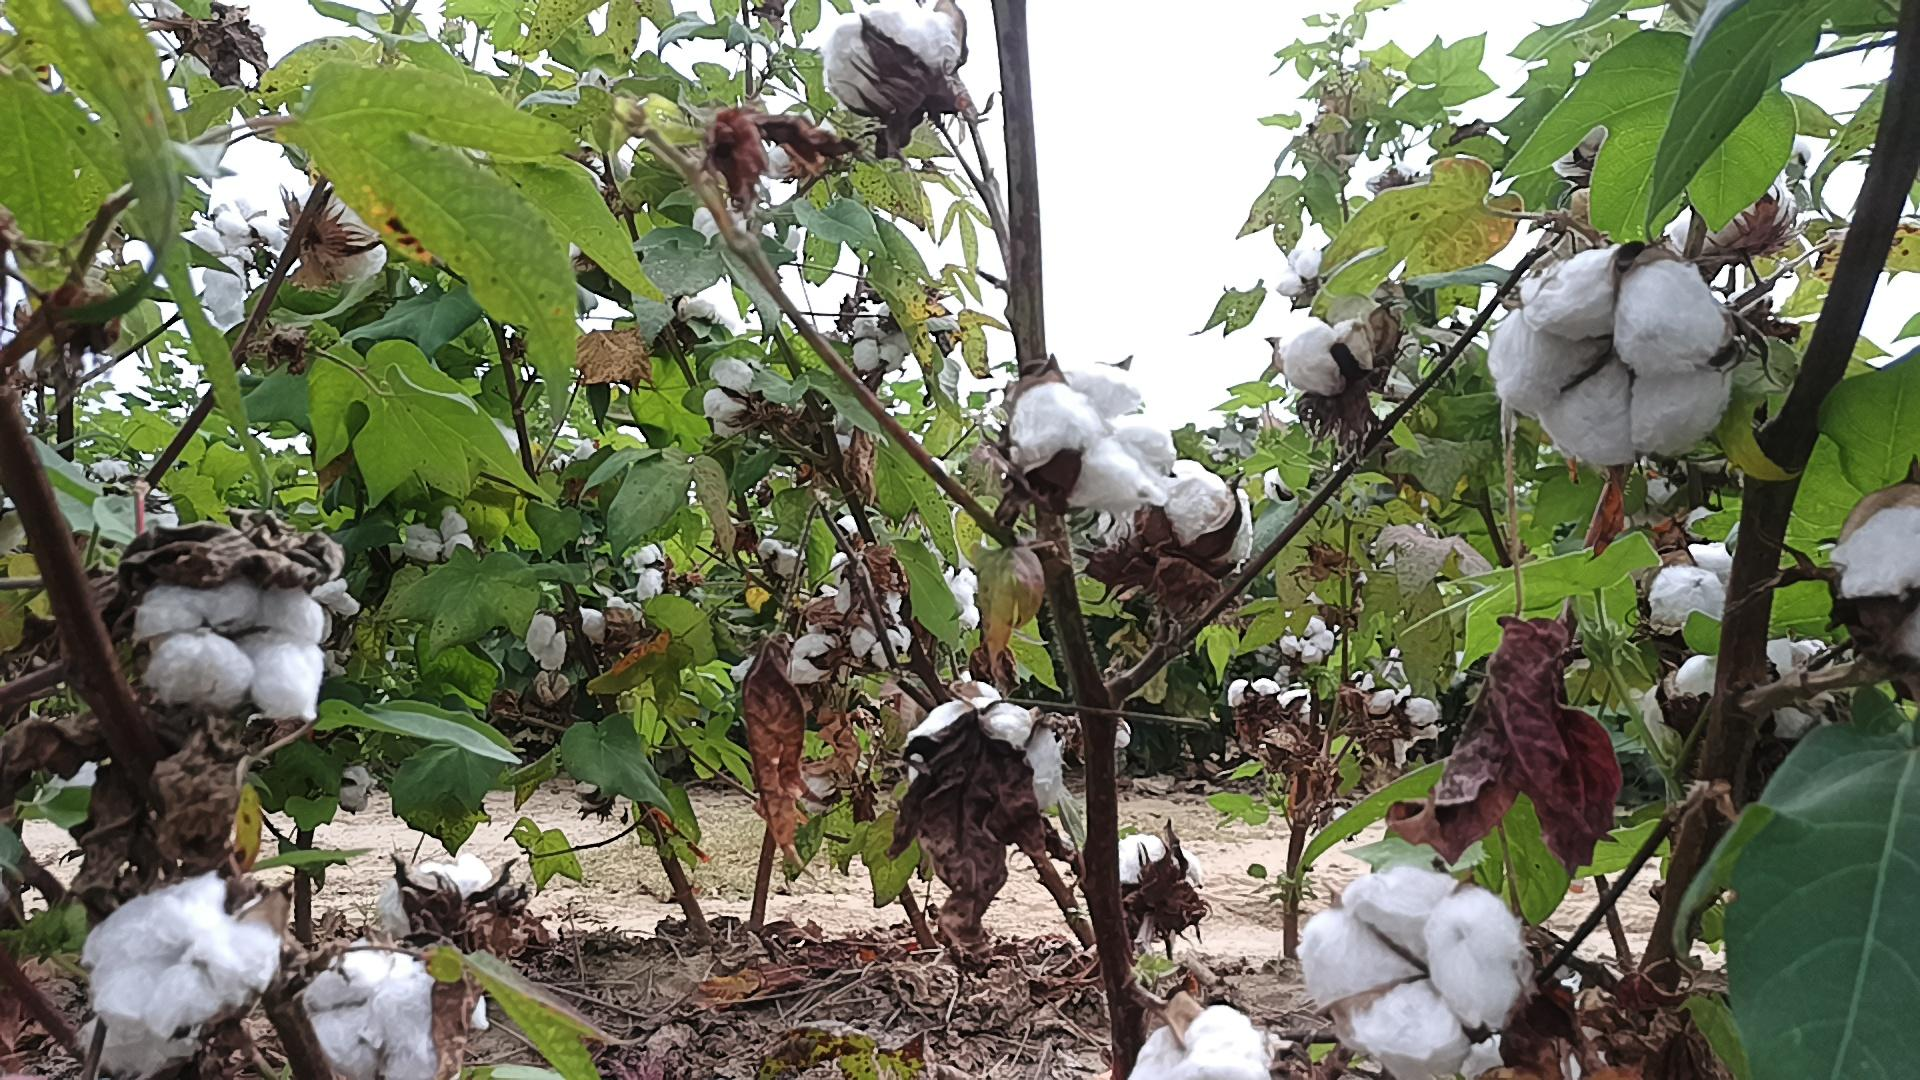cotton_ready: (1490, 245, 1735, 469), (1300, 865, 1528, 1080), (80, 873, 284, 1080), (132, 575, 322, 725), (1013, 368, 1172, 509), (906, 698, 1063, 823), (302, 948, 440, 1080), (1673, 634, 1832, 736), (823, 8, 957, 116), (1833, 502, 1920, 667), (1457, 973, 1582, 1080), (190, 198, 282, 320), (1130, 1004, 1278, 1080), (1146, 463, 1253, 564), (1114, 837, 1208, 943), (378, 856, 491, 940), (303, 191, 388, 284), (1658, 546, 1735, 640), (1280, 316, 1374, 390), (700, 357, 766, 450), (633, 286, 720, 355)
